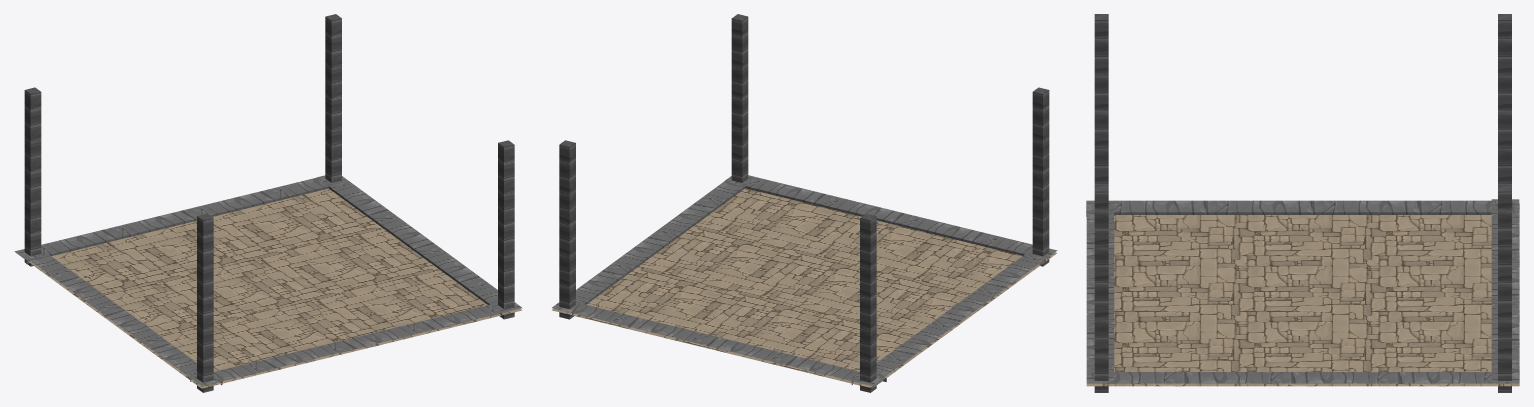
File: Dungeon_Floor.fbx
3 renders of one model, left to right at view 1: azimuth 30°, elevation 25°; view 2: azimuth 150°, elevation 25°; view 3: azimuth 270°, elevation 25°, orthographic. The views are drawn at different scales.
Visible parts, largest first — view 1: Dungeon_Floor; view 2: Dungeon_Floor; view 3: Dungeon_Floor.
Part boxes in pixels (<box>): Dungeon_Floor: <box>14,14,522,392</box>; Dungeon_Floor: <box>552,14,1057,392</box>; Dungeon_Floor: <box>1086,14,1519,392</box>.
Size of the model in its own units: 24.18 by 12.31 by 24.02.
